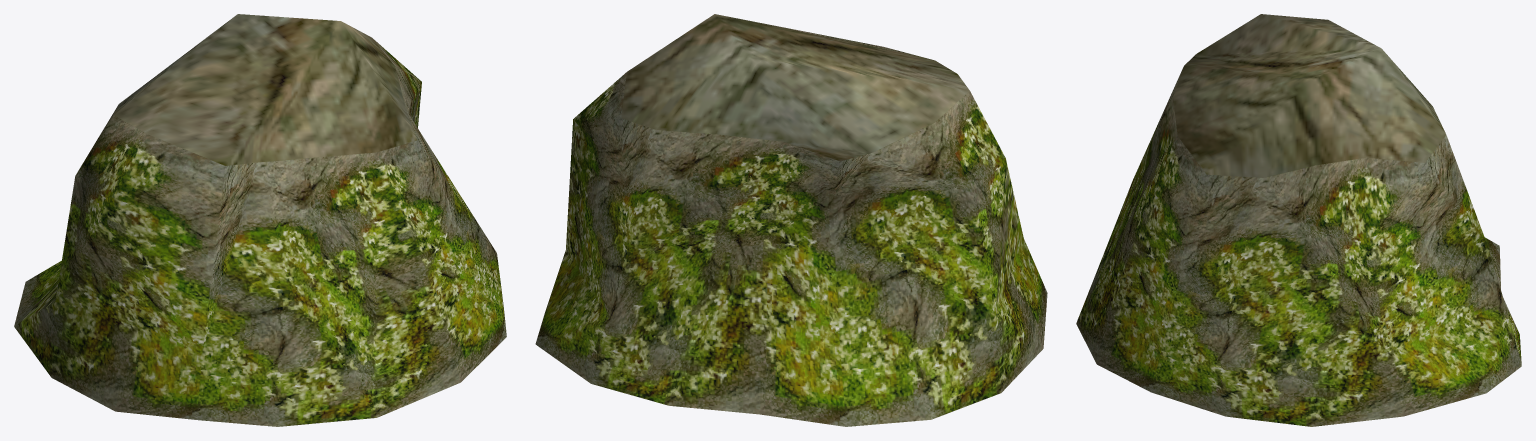
Rendered from rock_liaaba_covered_l2.fbx.
3 views of the same model, side by side, from view 1: azimuth 30°, elevation 25°; view 2: azimuth 150°, elevation 25°; view 3: azimuth 270°, elevation 25° (orthographic). The views are drawn at different scales.
Parts seen in each view (by area): view 1: mesh_node; view 2: mesh_node; view 3: mesh_node.
Part boxes in pixels (x1,y1,x2,y2): mesh_node: (14,14,506,426); mesh_node: (535,14,1047,426); mesh_node: (1076,14,1521,426).
Size of the model in its own units: 3.4 by 2.29 by 3.21.
1 material, 1 textured.
